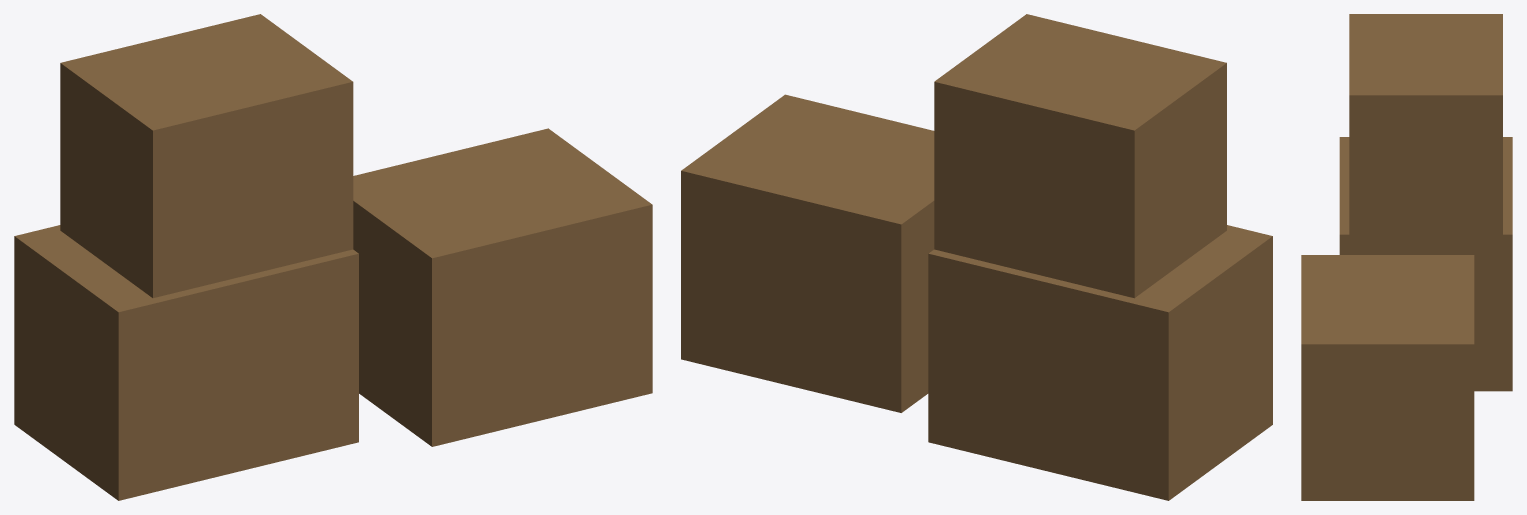
The model's file is moving-boxes.glb.
3 views of the same model, side by side, from view 1: azimuth 30°, elevation 25°; view 2: azimuth 150°, elevation 25°; view 3: azimuth 270°, elevation 25° (orthographic). The views are drawn at different scales.
Visible parts, largest first — view 1: moving-boxes; view 2: moving-boxes; view 3: moving-boxes.
Boxes of the visible parts, bbox=[...] form: moving-boxes: bbox=[14, 14, 652, 500]; moving-boxes: bbox=[681, 14, 1272, 500]; moving-boxes: bbox=[1301, 14, 1512, 500].
Size of the model in its own units: 1.28 by 0.85 by 0.55.
